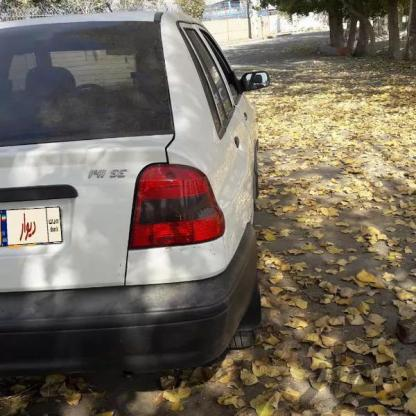Car: (0, 5, 275, 362)
